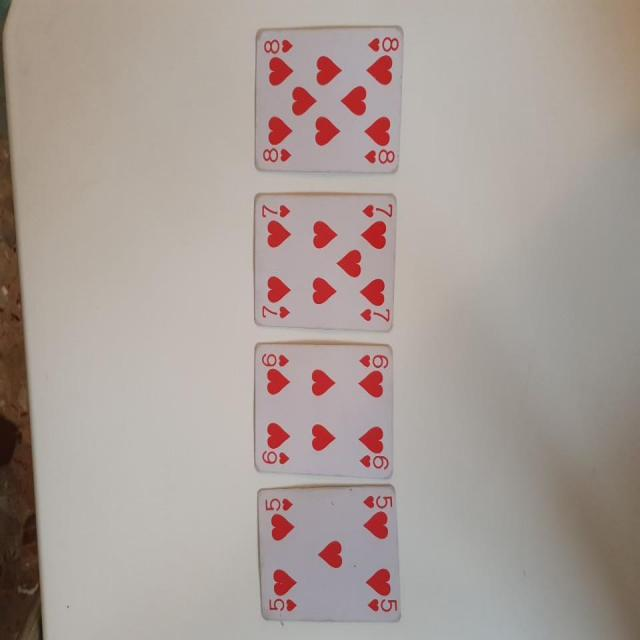5 Hearts: (255, 476, 406, 626)
6 Hearts: (247, 338, 404, 485)
7 Hearts: (248, 186, 398, 333)
8 Hearts: (246, 24, 414, 180)
